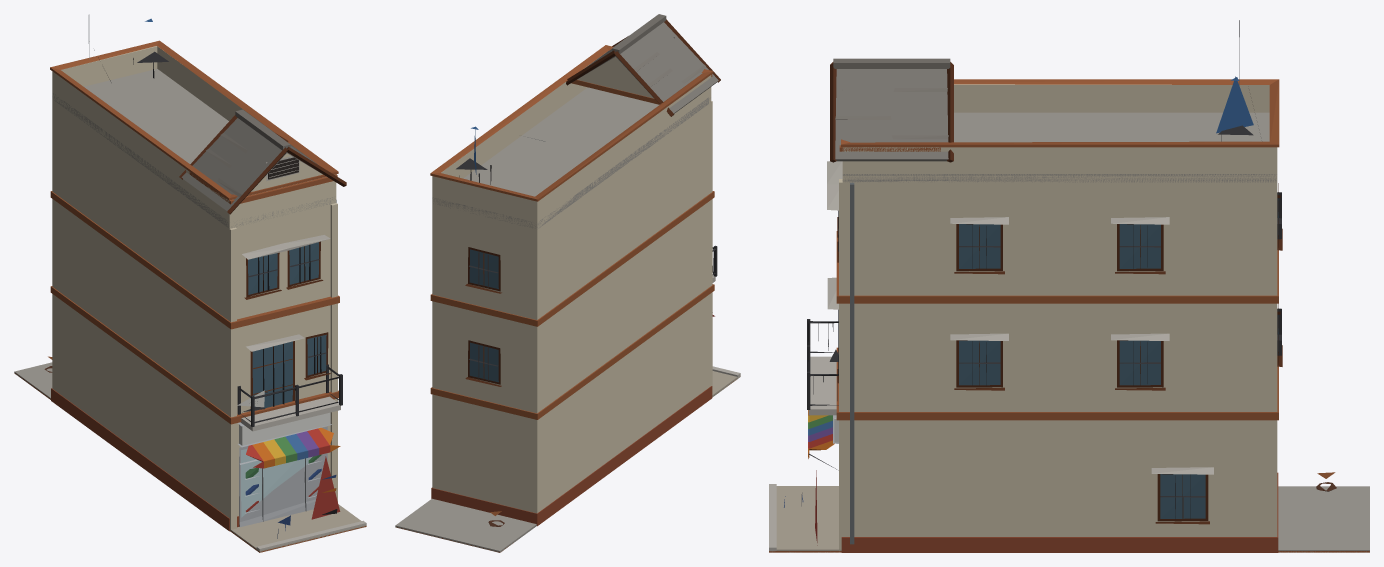
File: bay2_right.glb
The picture shows the model from 3 angles, left to right: view 1: azimuth 30°, elevation 25°; view 2: azimuth 150°, elevation 25°; view 3: azimuth 270°, elevation 25°; orthographic projection. The views are drawn at different scales.
Visible parts, largest first — view 1: body, windows; view 2: body, windows; view 3: body, windows.
Part boxes in pixels (<box>): body: <box>14,14,366,552</box>; windows: <box>248,157,326,410</box>; body: <box>395,14,740,552</box>; windows: <box>469,249,498,382</box>; body: <box>769,20,1369,552</box>; windows: <box>959,192,1278,518</box>.
Bounding box in the file's own units: 4.66 × 14.15 × 15.9.
